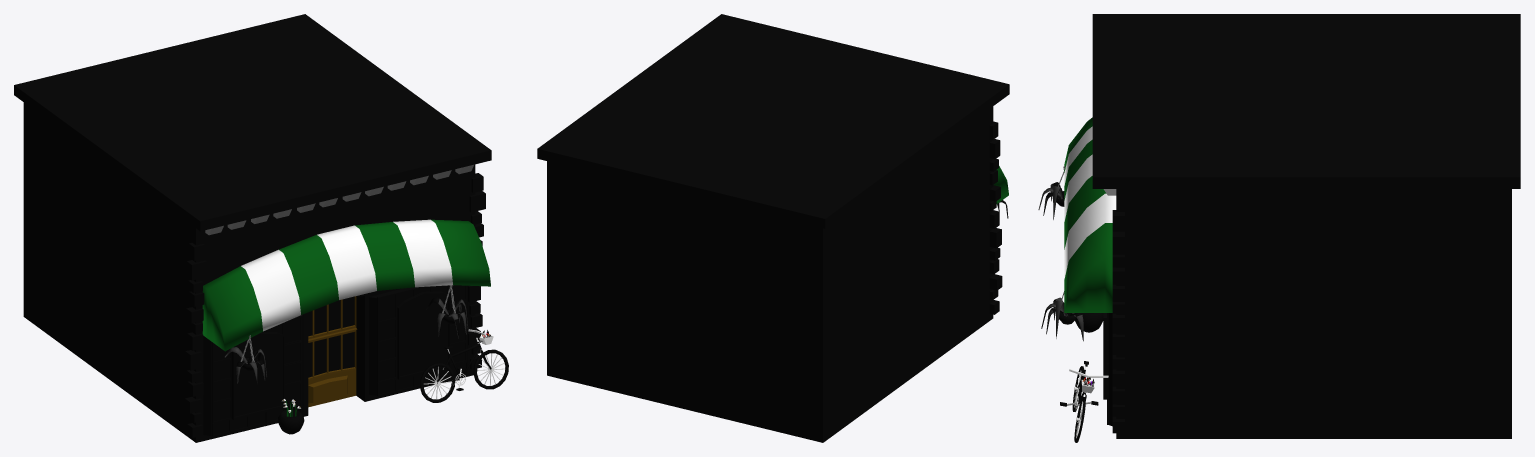
The model's file is FloriculturaLOD0.fbx.
3 views of the same model, side by side, from view 1: azimuth 30°, elevation 25°; view 2: azimuth 150°, elevation 25°; view 3: azimuth 270°, elevation 25° (orthographic). The views are drawn at different scales.
Visible parts, largest first — view 1: FloriculturaLOD0, Toldo, BicicletaLOD0; view 2: FloriculturaLOD0; view 3: FloriculturaLOD0, Toldo, BicicletaLOD0.
Part boxes in pixels (<box>): FloriculturaLOD0: <box>14,14,491,442</box>; Toldo: <box>202,219,490,351</box>; BicicletaLOD0: <box>420,329,508,402</box>; FloriculturaLOD0: <box>537,14,1009,442</box>; FloriculturaLOD0: <box>1038,14,1520,438</box>; Toldo: <box>1064,117,1116,312</box>; BicicletaLOD0: <box>1060,361,1108,442</box>.
Size of the model in its own units: 613 by 446 by 731.
